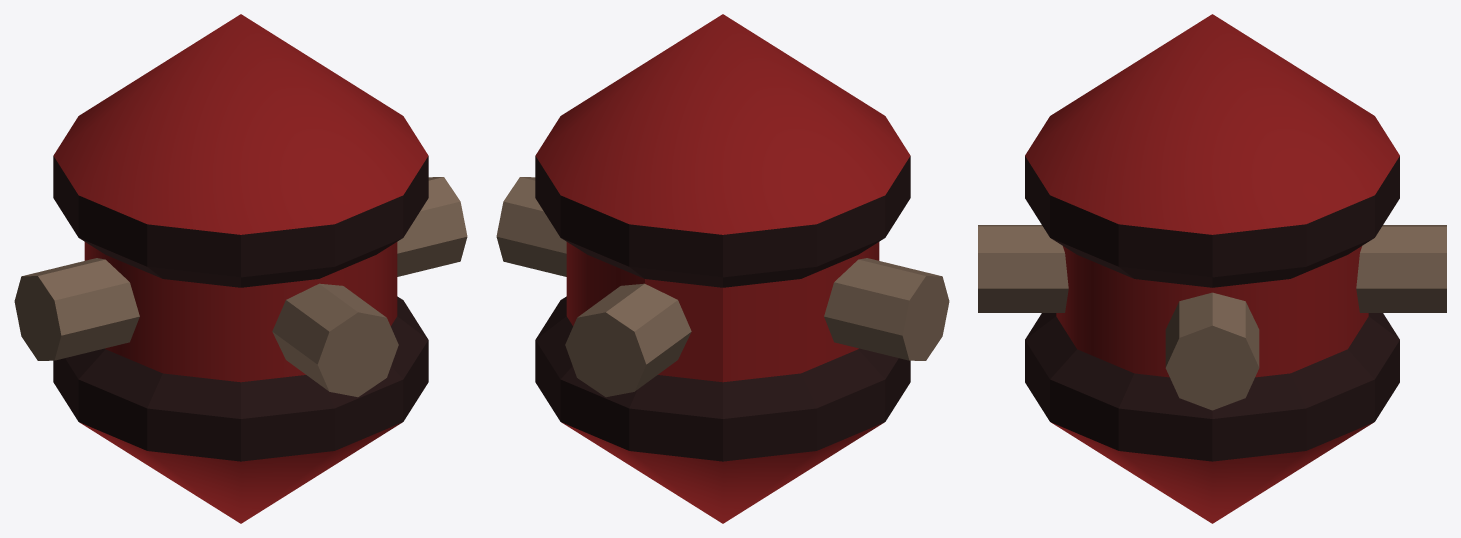
File: EnemySpitter_0.fbx
The picture shows the model from 3 angles, left to right: view 1: azimuth 30°, elevation 25°; view 2: azimuth 150°, elevation 25°; view 3: azimuth 270°, elevation 25°; orthographic projection.
Parts seen in each view (by area): view 1: Cylinder, Cylinder.002, Cylinder.001; view 2: Cylinder, Cylinder.002, Cylinder.001; view 3: Cylinder, Cylinder.001, Cylinder.002.
Boxes of the visible parts, box(x1,y1,x2,y2) form: Cylinder: box(53, 14, 428, 523); Cylinder.002: box(14, 177, 467, 360); Cylinder.001: box(272, 283, 398, 397); Cylinder: box(535, 14, 910, 523); Cylinder.002: box(496, 177, 949, 360); Cylinder.001: box(565, 283, 691, 397); Cylinder: box(1025, 14, 1399, 523); Cylinder.001: box(978, 225, 1446, 312); Cylinder.002: box(1165, 292, 1259, 410).
Bounding box in the file's own units: 300 × 360 × 300.
